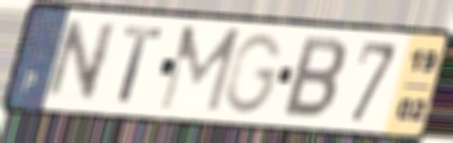7: (347, 38, 401, 125)
B: (279, 33, 349, 122)
G: (222, 31, 287, 117)
M: (155, 23, 244, 116)
N: (42, 18, 121, 104)
T: (116, 23, 166, 107)
